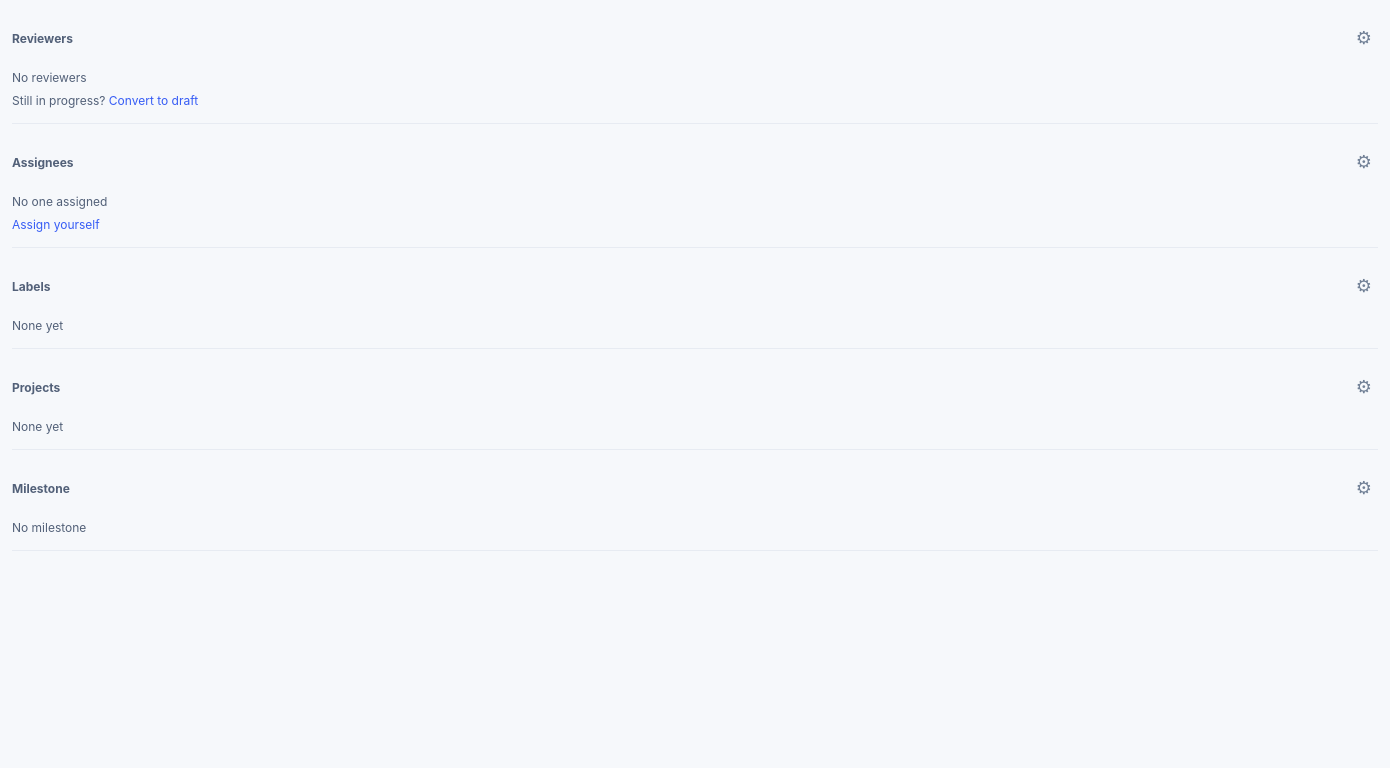
Scenario: creates a label with the chosen color and applies it to the PR
Click the button named "Edit Labels": (1364, 286) [1350,276,1378,296]
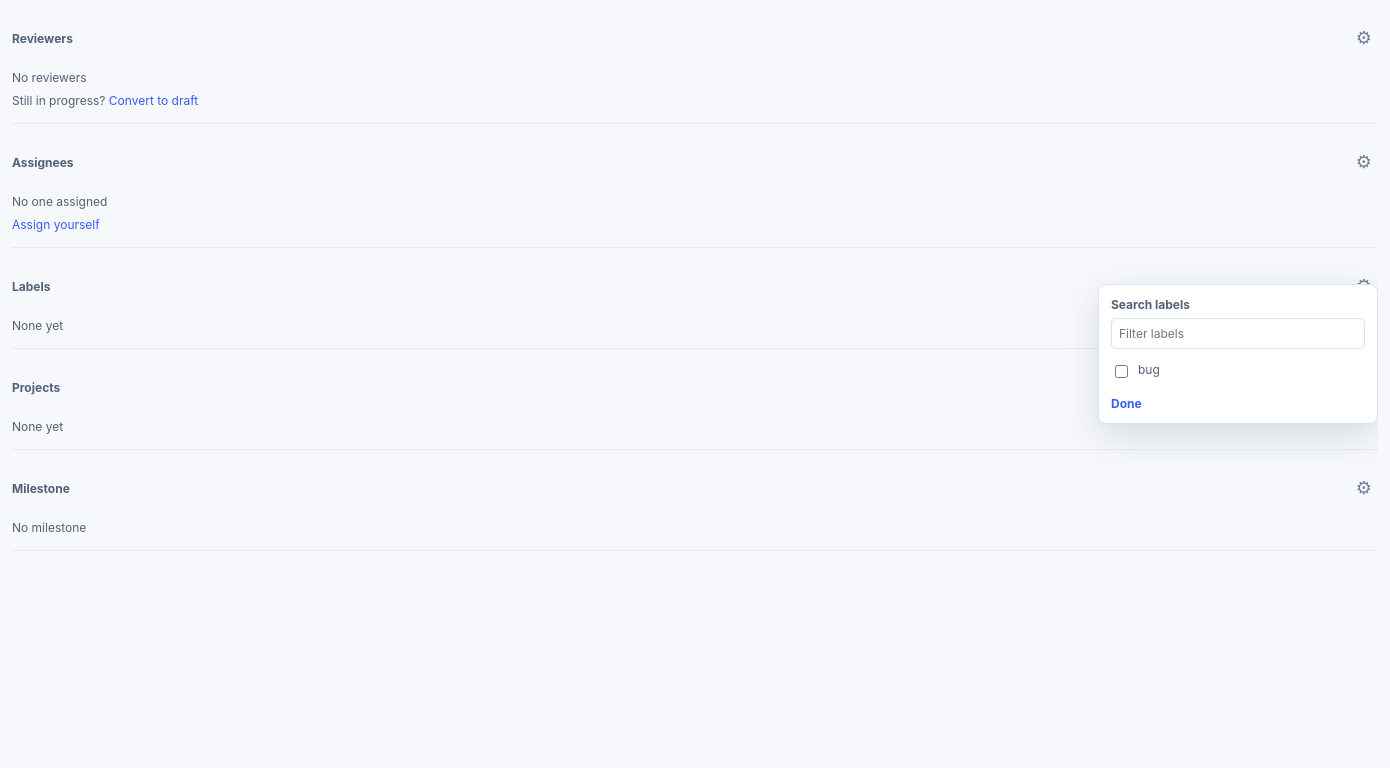
Check: the checkbox labelled "bug" is shown, box [1115,365,1128,378]
In the field labelled "Search labels": (1238, 333) [1111,318,1365,349], type "dev-dungtran"
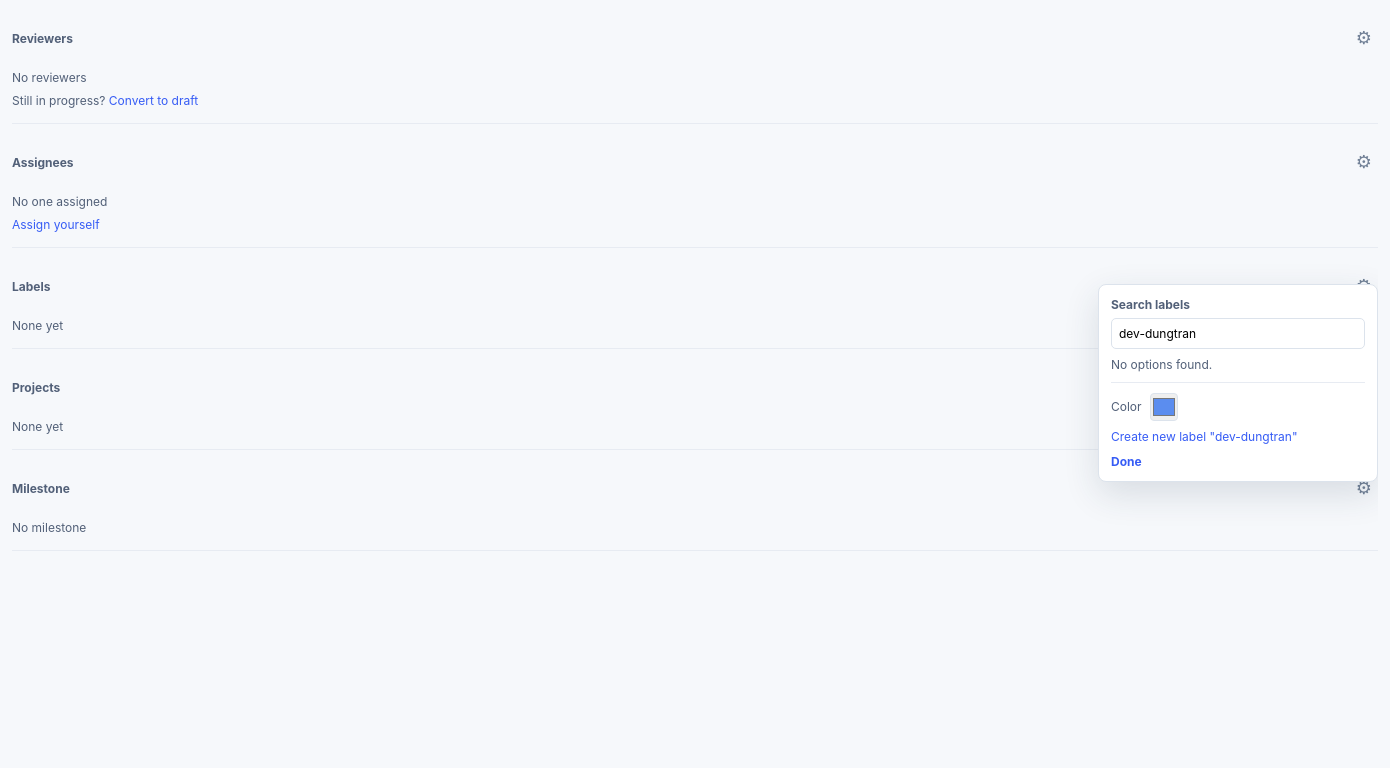
In the colour field labelled "Color": (1164, 407) [1150,393,1178,421], type "#ff8800"
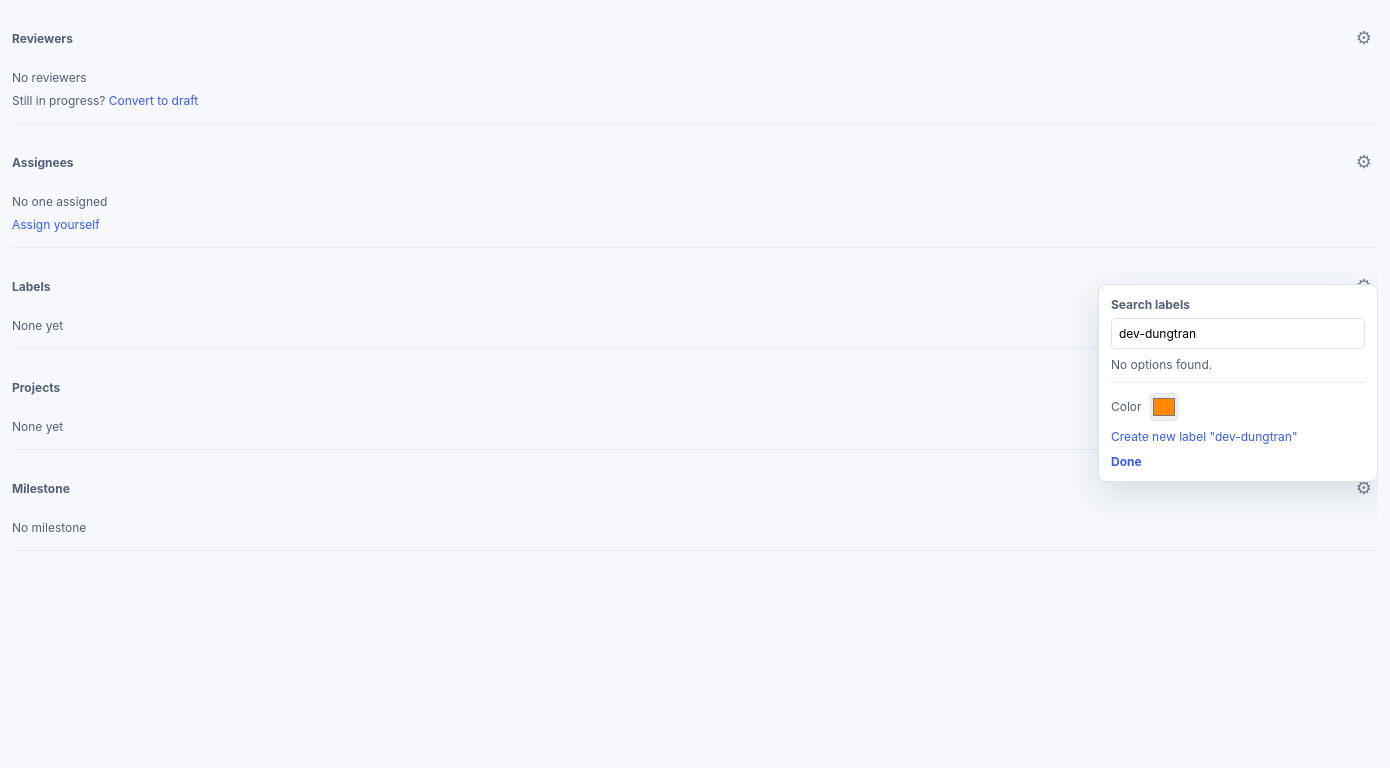
Click the button "Create new label \"dev-dungtran\"": (1238, 436) [1111,429,1365,444]
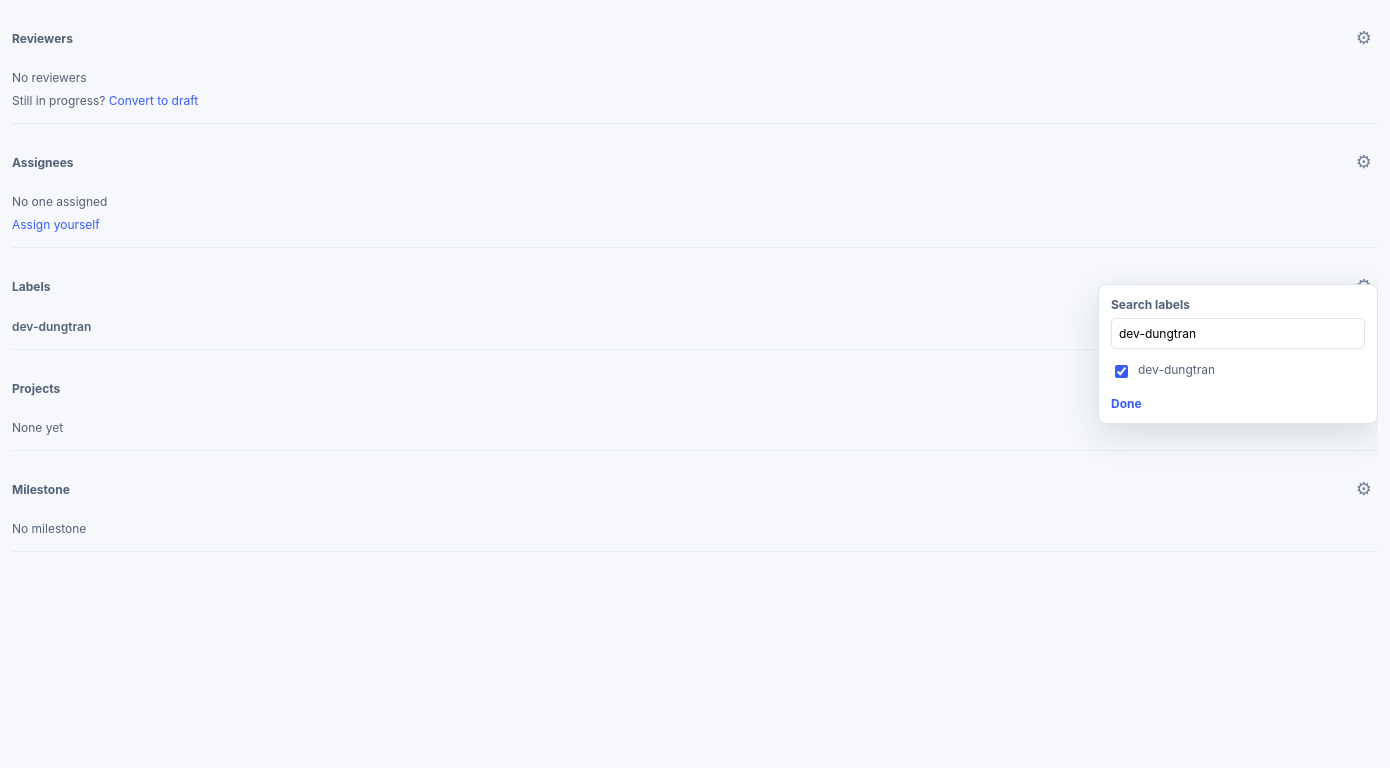
Check: the checkbox labelled "dev-dungtran" is checked, box [1115,365,1128,378]
